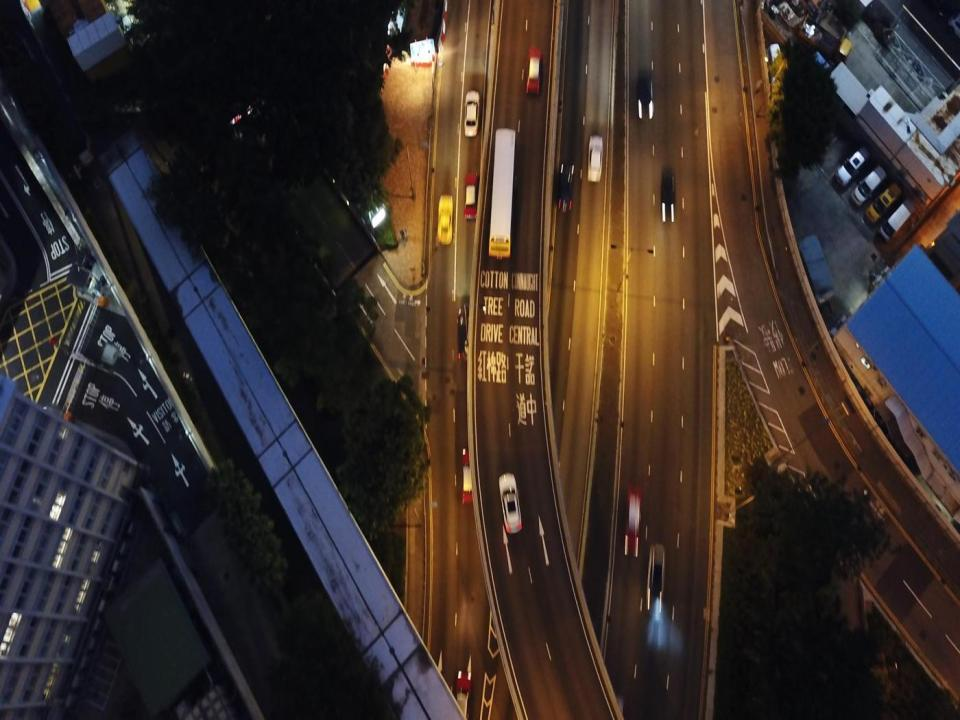bus: (489, 128, 515, 258)
car: (499, 472, 521, 533), (646, 544, 664, 612), (624, 488, 641, 558), (461, 448, 479, 505), (458, 307, 476, 357), (436, 194, 453, 245), (454, 670, 471, 719), (558, 164, 575, 211), (526, 48, 542, 95), (637, 71, 653, 118), (587, 135, 602, 182), (464, 92, 480, 136), (660, 174, 674, 223), (463, 174, 478, 219)
van: (850, 163, 886, 207), (881, 198, 916, 241), (837, 147, 870, 187), (867, 183, 900, 219)
